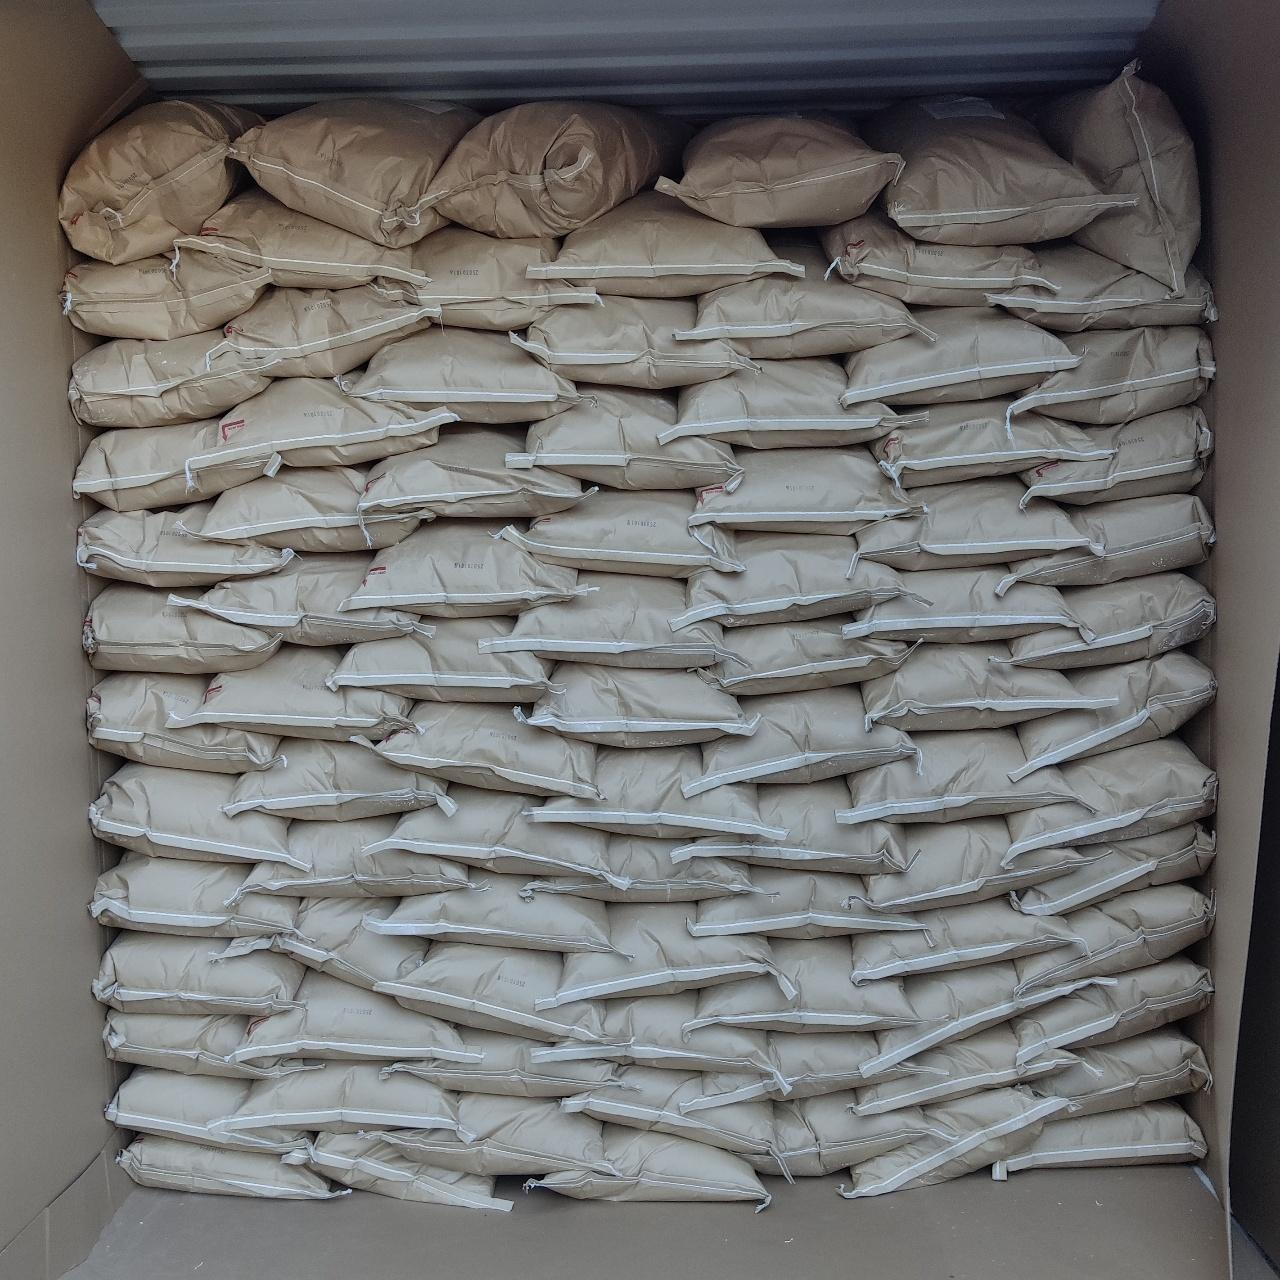sack: (874, 98, 1128, 244), (418, 100, 680, 238), (234, 98, 478, 246), (1040, 64, 1196, 282), (62, 98, 263, 263), (527, 190, 804, 294), (658, 114, 903, 226), (680, 246, 930, 356), (1010, 651, 1214, 779), (544, 904, 790, 1006), (176, 188, 424, 286), (1008, 736, 1214, 855), (844, 1085, 1064, 1196), (508, 386, 736, 486), (527, 745, 776, 838), (842, 306, 1073, 406), (172, 644, 411, 740), (170, 554, 425, 644), (866, 962, 1073, 1073), (340, 326, 576, 422), (824, 210, 1054, 306), (196, 376, 454, 462), (842, 730, 1082, 822), (348, 520, 580, 614), (662, 358, 908, 445), (1016, 881, 1214, 990), (360, 424, 590, 518), (515, 297, 750, 388), (382, 229, 598, 328), (696, 688, 910, 788), (488, 574, 720, 666), (676, 532, 903, 626), (392, 942, 612, 1039), (692, 938, 920, 1030), (376, 702, 595, 798), (678, 778, 906, 870), (864, 644, 1104, 730), (998, 572, 1214, 668), (384, 784, 606, 878), (856, 476, 1085, 566), (90, 762, 298, 862), (1016, 954, 1212, 1060), (240, 971, 464, 1062), (874, 399, 1107, 486), (215, 896, 428, 990), (990, 241, 1214, 332), (190, 467, 433, 550), (501, 490, 740, 574), (1002, 493, 1214, 588), (864, 816, 1078, 910), (856, 1024, 1078, 1114), (365, 1094, 610, 1175), (229, 816, 470, 898), (207, 286, 433, 374), (1010, 328, 1214, 422), (852, 898, 1078, 982), (1012, 822, 1214, 915), (690, 448, 915, 532), (88, 674, 278, 772), (328, 618, 550, 702), (70, 331, 270, 424), (524, 663, 754, 744), (224, 738, 454, 818), (380, 870, 610, 949), (1022, 406, 1212, 502), (76, 420, 278, 510), (527, 1124, 765, 1200), (564, 1065, 772, 1152), (546, 992, 772, 1070), (64, 252, 266, 338), (284, 1133, 510, 1210), (94, 932, 304, 1014), (79, 506, 294, 586), (91, 852, 300, 934), (994, 1099, 1204, 1180), (108, 1065, 308, 1150), (847, 566, 1076, 640), (84, 584, 278, 670), (704, 614, 910, 694), (680, 1032, 886, 1110), (694, 866, 922, 937), (742, 1090, 932, 1175), (386, 1028, 624, 1094), (1036, 1026, 1206, 1116), (215, 1064, 454, 1128), (527, 835, 750, 900), (104, 1010, 318, 1078), (118, 1136, 343, 1198)
